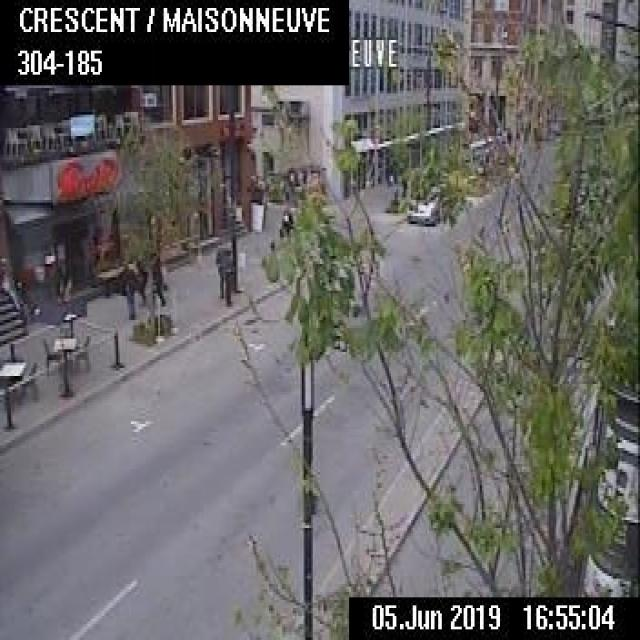pedestrian: (152, 254, 165, 304), (222, 245, 233, 304), (135, 257, 147, 303), (124, 266, 135, 316), (214, 243, 224, 296)
vehicle: (406, 192, 440, 224), (278, 201, 295, 234)
